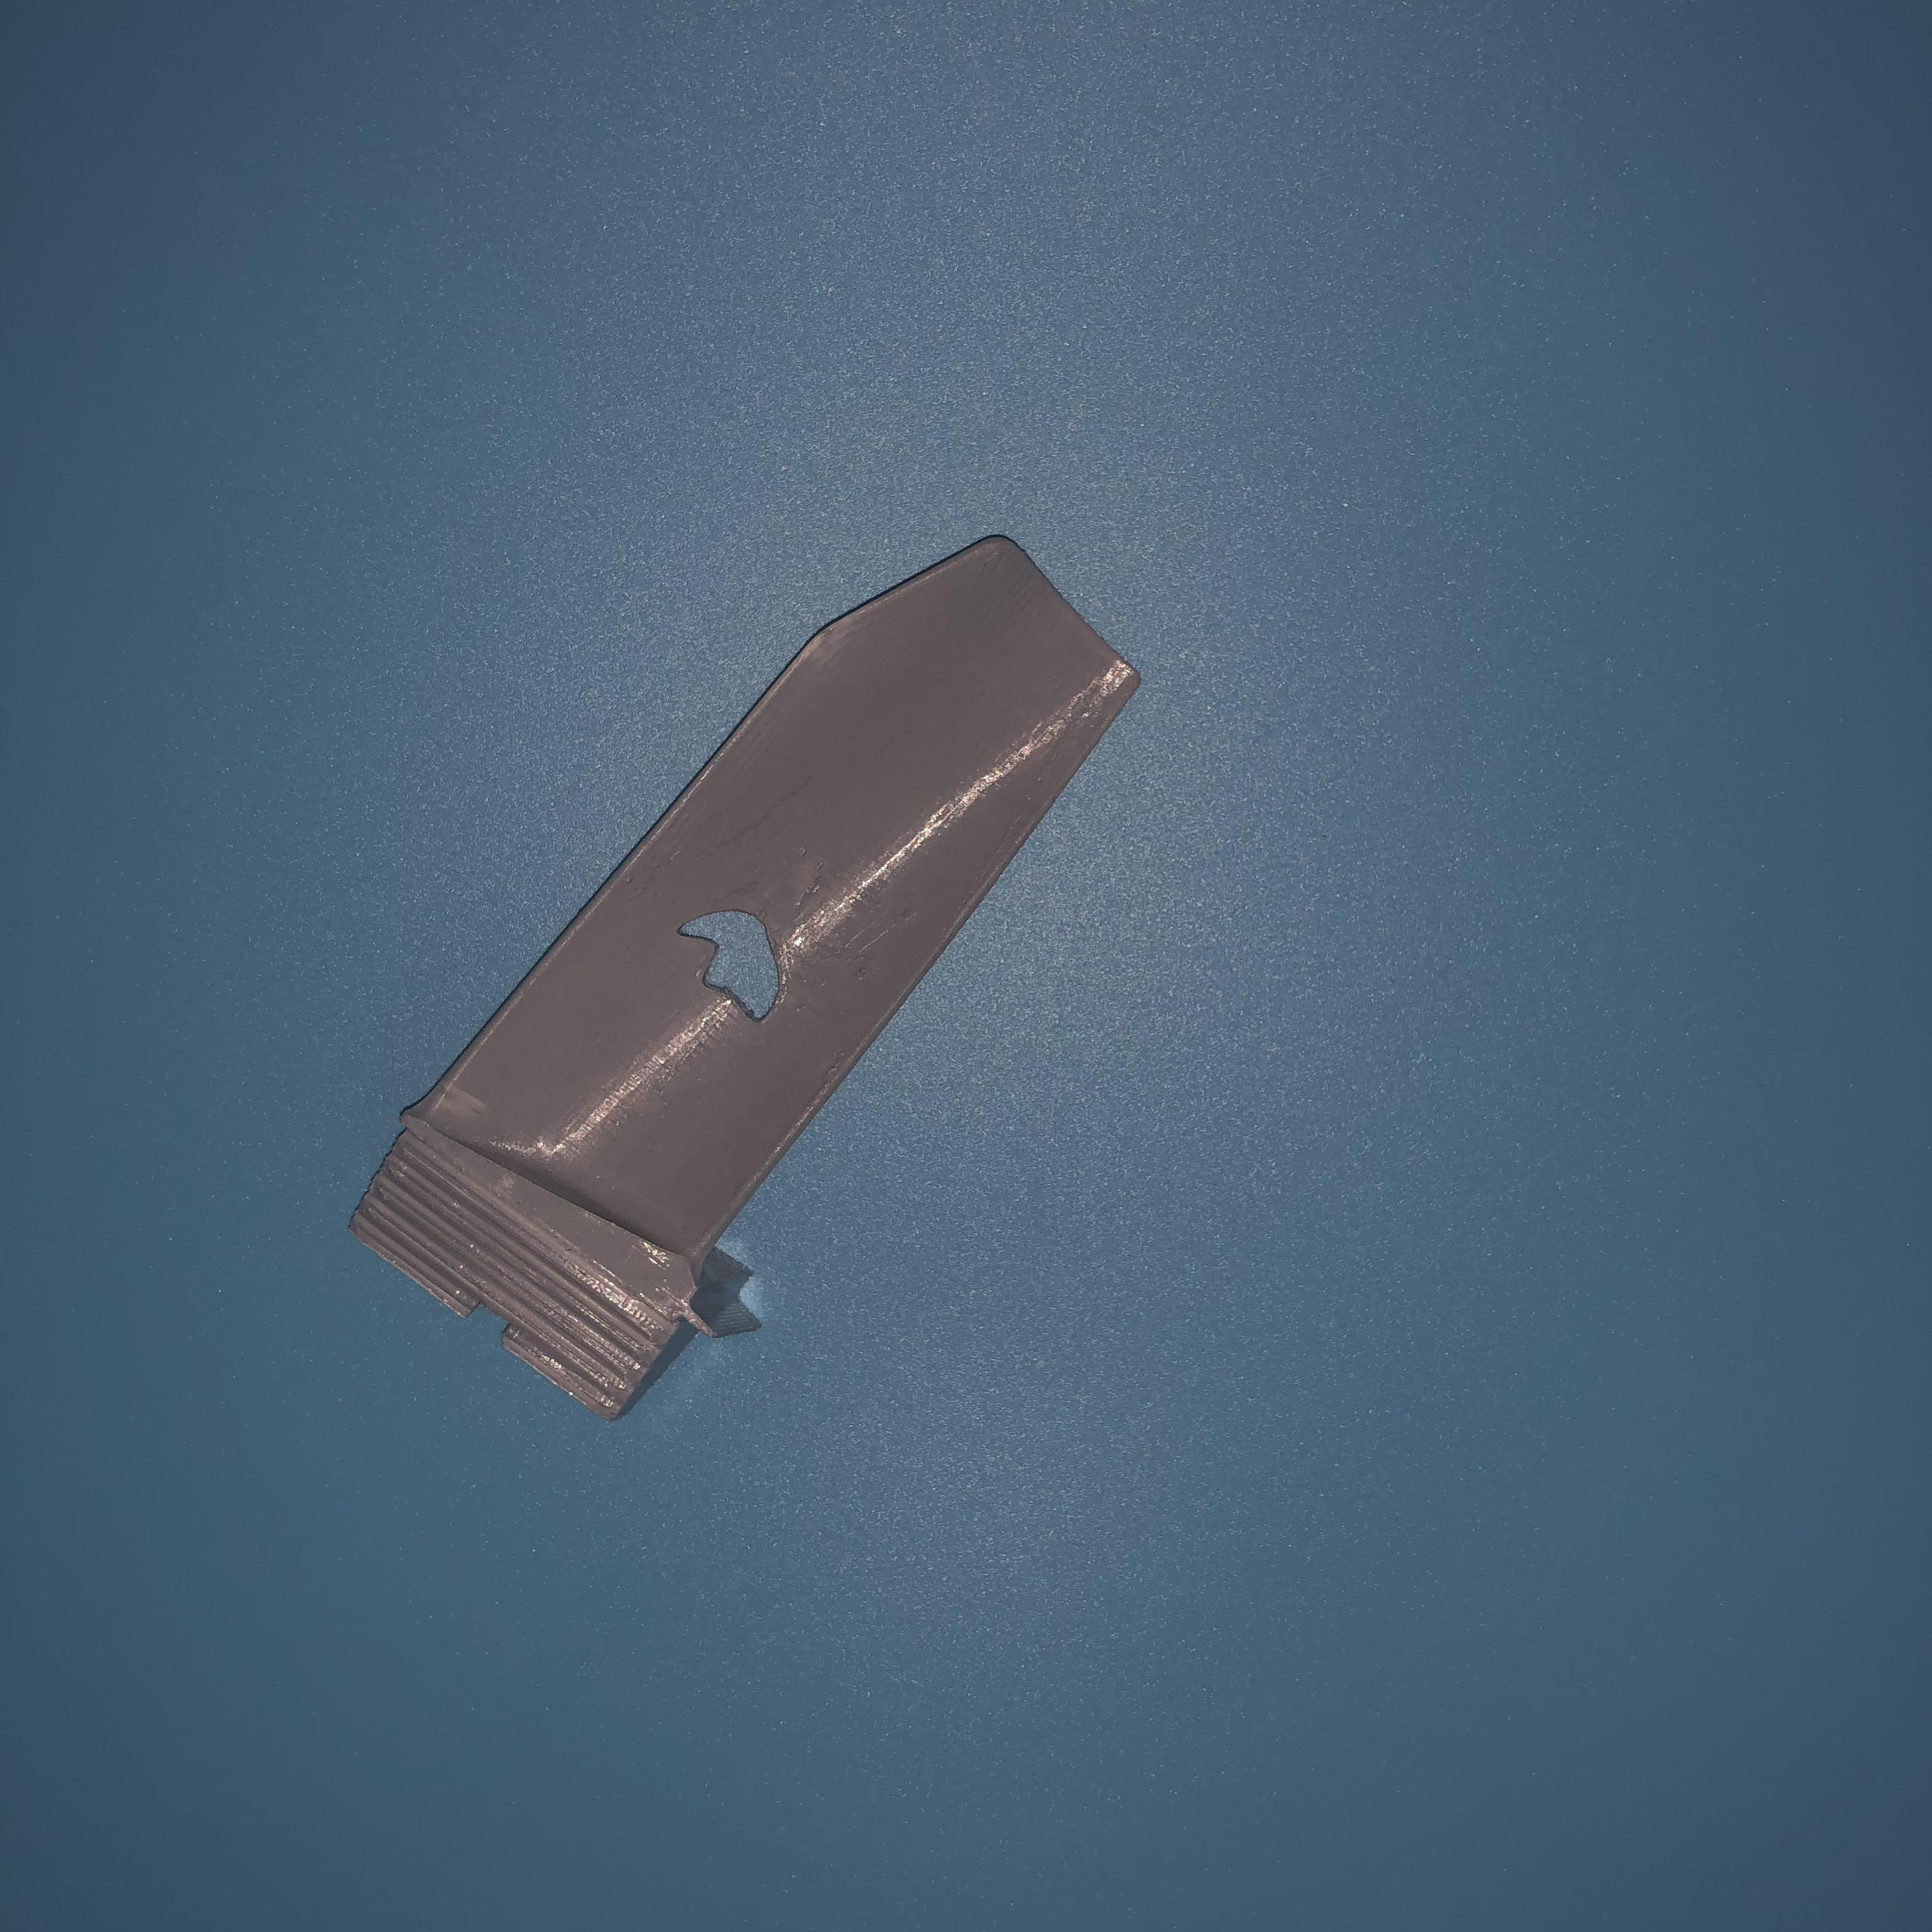breakdown: (667, 913, 793, 1017)
